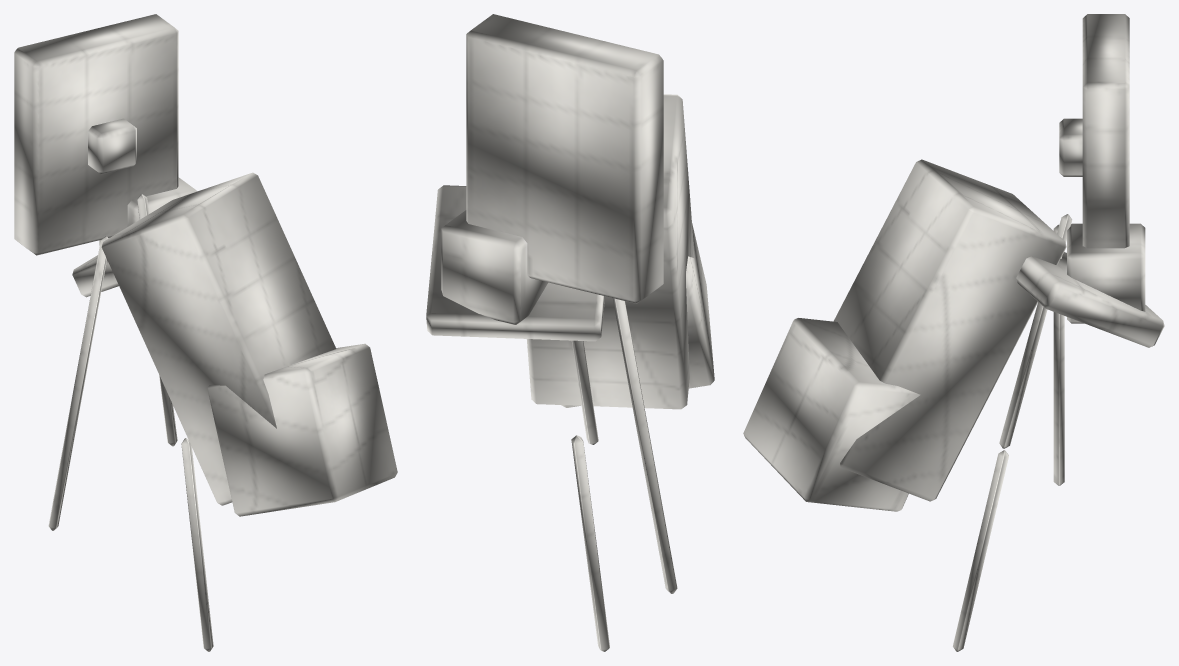
Rendered from Camara_Rota.fbx.
3 views of the same model, side by side, from view 1: azimuth 30°, elevation 25°; view 2: azimuth 150°, elevation 25°; view 3: azimuth 270°, elevation 25° (orthographic). The views are drawn at different scales.
Parts seen in each view (by area): view 1: Camara_Rota; view 2: Camara_Rota; view 3: Camara_Rota.
Part boxes in pixels (x1,y1,x2,y2): Camara_Rota: (14,14,397,651); Camara_Rota: (426,14,714,651); Camara_Rota: (743,14,1164,651).
Size of the model in its own units: 1.72 by 4.11 by 2.69.
